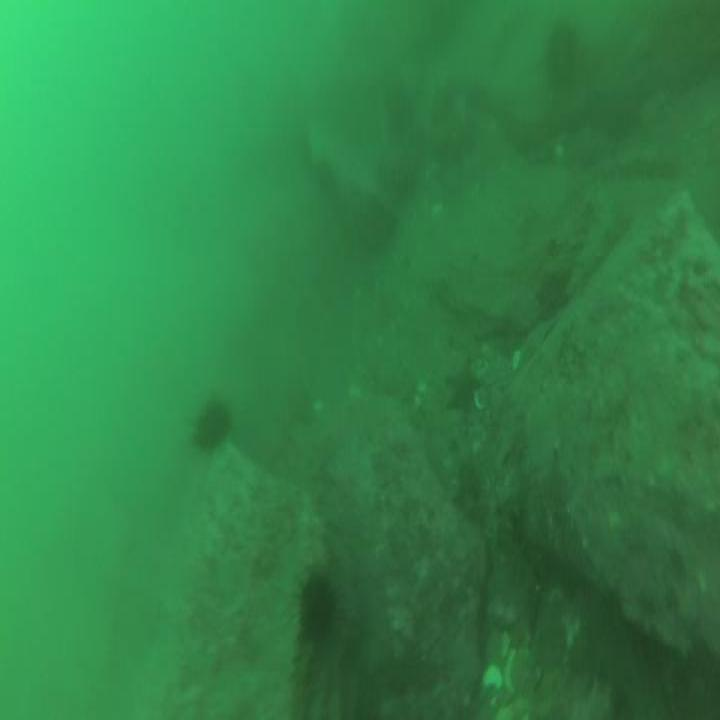echinus: (297, 578, 335, 642), (546, 23, 579, 80), (191, 402, 231, 448), (539, 268, 569, 320)
starfish: (445, 363, 479, 414)
